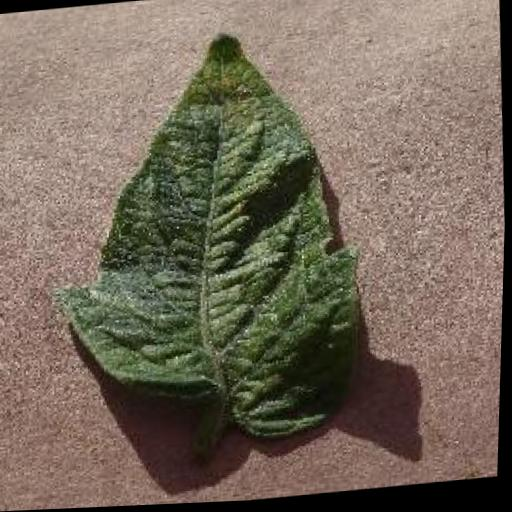Spider Mites: (47, 22, 376, 462)
